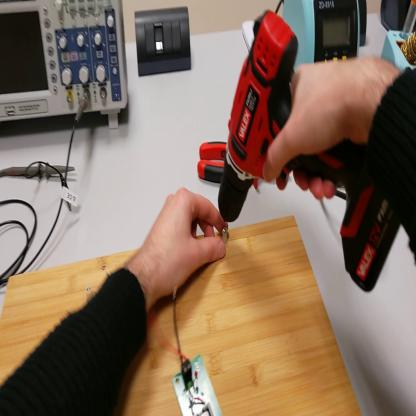electric screwdriver: (219, 12, 403, 295)
hand: (263, 59, 385, 196), (143, 188, 229, 296)
high voltage board: (149, 293, 223, 414)
oscilloscope: (1, 2, 128, 136)
oscilloscope probe tip: (6, 162, 77, 183)
pliers: (196, 137, 294, 195)
welder base: (381, 2, 416, 73)
welder station: (283, 2, 360, 68)
working area: (1, 216, 363, 416)
